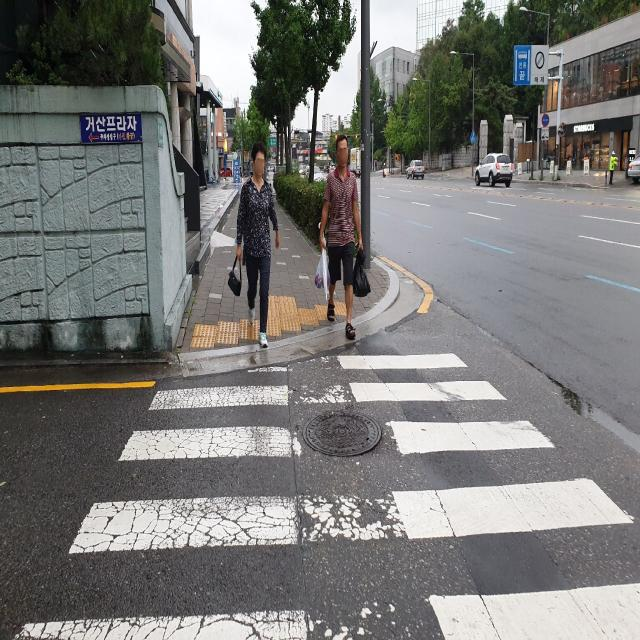횡단보도: (9, 351, 640, 640)
